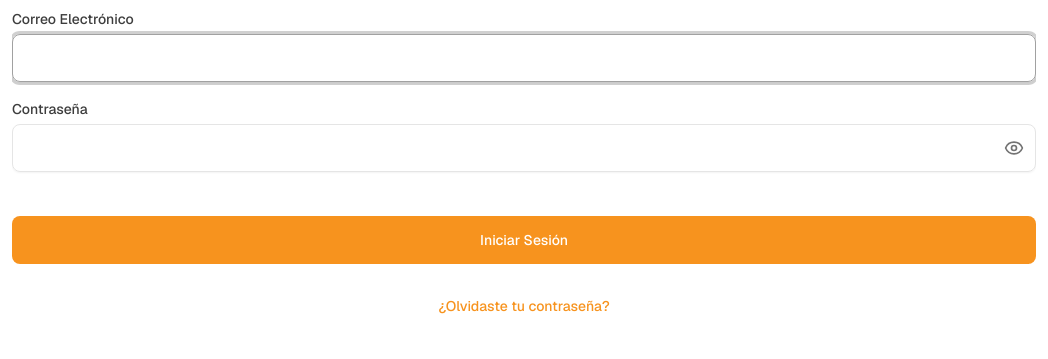
it: LoginForm › Form Validation › shows error when password is empty
Type "test@example.com" into the field labelled "Correo Electrónico" at [524, 58], box [12, 34, 1036, 82]
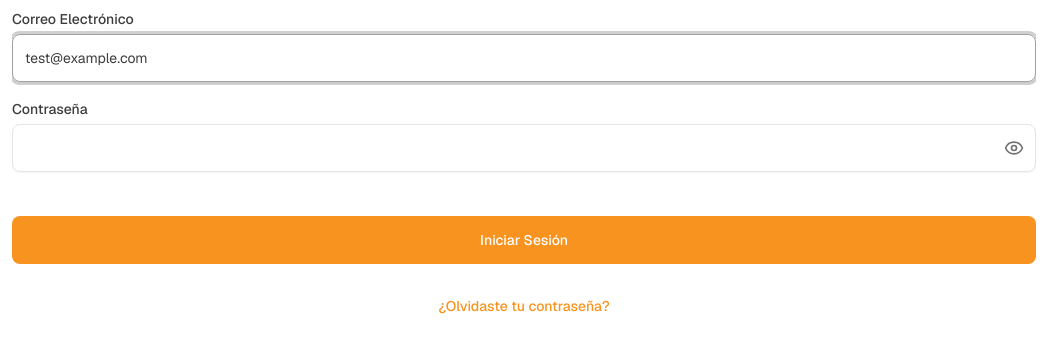
Click the button "Iniciar Sesión" at [524, 240], box [12, 216, 1036, 264]
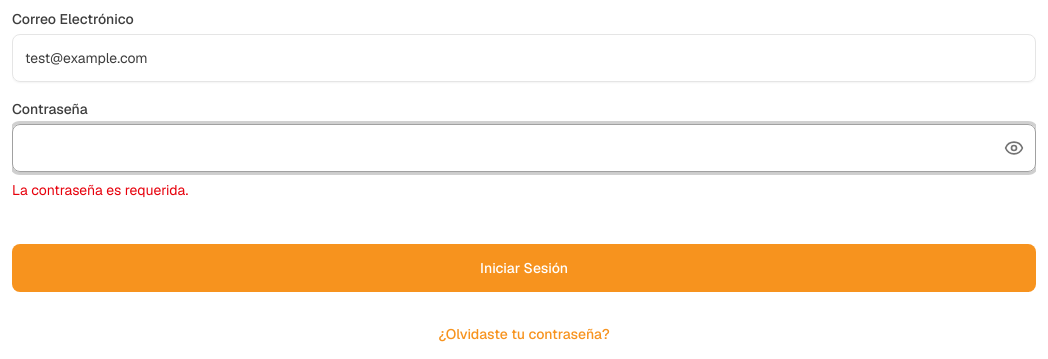
expect the text "La contraseña es requerida." is shown: met, box [12, 181, 188, 199]
